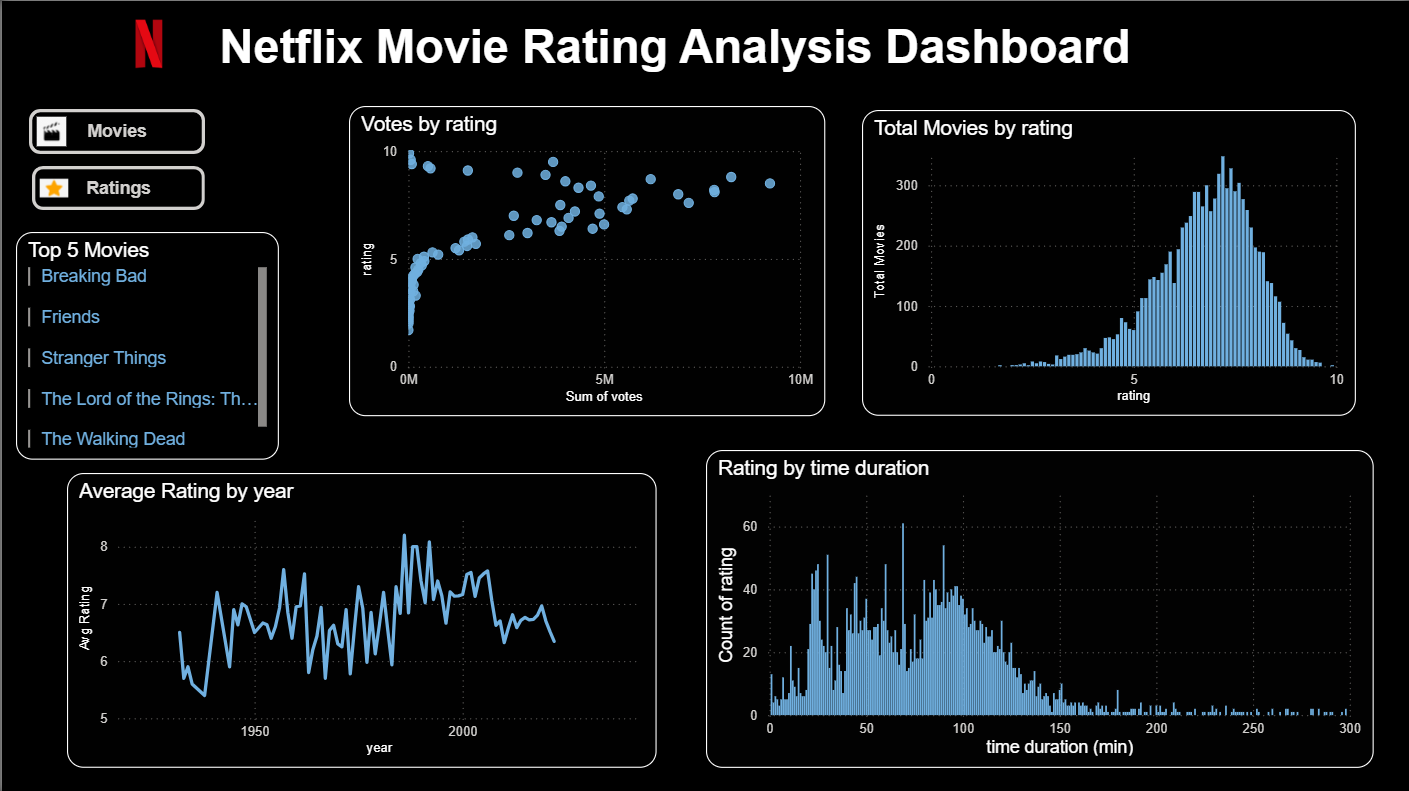

What the dashboard file says about the page in this screenshot:
{"tool":"powerbi","page":{"name":"Ratings","canvas":[1280,720],"ordinal":1},"visuals":[{"type":"columnChart","title":"Rating by time duration","fields":{"Category":["cleaned_movies.duration"],"Y":["Count(cleaned_movies.rating)"]},"box":[640,408,607,289],"z":0},{"type":"image","box":[82.7,0,100,77.3],"z":1000},{"type":"textbox","box":[192.7,12.7,851.8,77.3],"z":2000},{"type":"multiRowCard","title":"Top 5 Movies","fields":{"Values":["cleaned_movies.title"]},"box":[13,210,239,207],"z":3000},{"type":"lineChart","title":"Average Rating by year","fields":{"Category":["cleaned_movies.year"],"Y":["cleaned_movies.Avg Rating"]},"box":[59,429,536,268],"z":4000},{"type":"scatterChart","title":"Votes by rating","fields":{"X":["Sum(cleaned_movies.votes)"],"Y":["cleaned_movies.rating"]},"box":[315,95,433,282],"z":5000},{"type":"columnChart","fields":{"Category":["cleaned_movies.rating"],"Y":["cleaned_movies.Total Movies"]},"box":[782,99,449,278],"z":6000},{"type":"actionButton","title":"Movies","box":[24.5,98.2,160,40.9],"z":7000},{"type":"actionButton","box":[27.3,150,157.3,40],"z":8000}]}

Visuals, with their boxes in screenshot pixels (x1, y1, x2, y2), scaled from the page's 1280x720 canvas onto the 1409x791 screenshot:
"Rating by time duration" columnChart: <box>704,448,1373,766</box>
image: <box>91,0,201,85</box>
textbox: <box>212,14,1150,99</box>
"Top 5 Movies" multiRowCard: <box>14,231,277,458</box>
"Average Rating by year" lineChart: <box>65,471,655,766</box>
"Votes by rating" scatterChart: <box>347,104,823,414</box>
columnChart - cleaned_movies.rating x cleaned_movies.Total Movies: <box>861,109,1355,414</box>
"Movies" actionButton: <box>27,108,203,153</box>
actionButton: <box>30,165,203,209</box>
